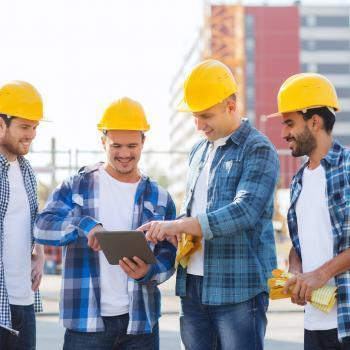helmet: (180, 60, 239, 113), (276, 72, 340, 115), (1, 82, 47, 123), (100, 97, 152, 132)
